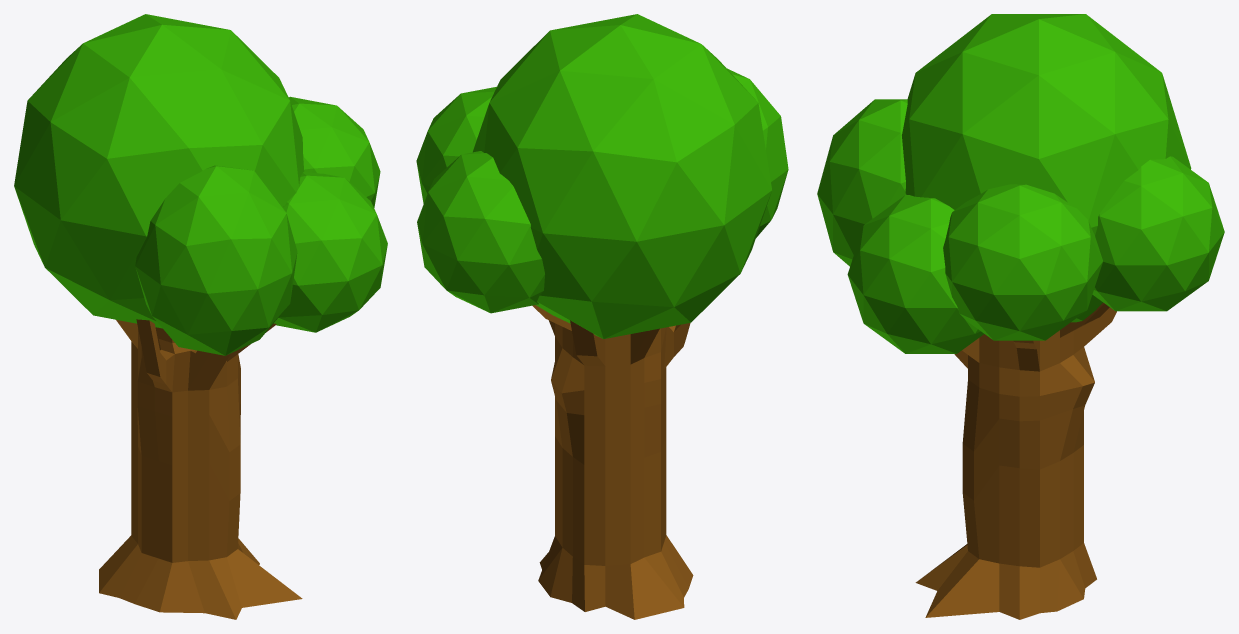
Rendered from boom 3.fbx.
3 views of the same model, side by side, from view 1: azimuth 30°, elevation 25°; view 2: azimuth 150°, elevation 25°; view 3: azimuth 270°, elevation 25° (orthographic). The views are drawn at different scales.
Parts seen in each view (by area): view 1: Icosphere.006, Cube.002, Icosphere.004, Icosphere.003, Icosphere.002; view 2: Icosphere.006, Cube.002, Icosphere.005, Icosphere.002, Icosphere.004; view 3: Icosphere.006, Cube.002, Icosphere.002, Icosphere.005, Icosphere.003, Icosphere.004.
Part boxes in pixels (bbox=[...]): Icosphere.006: bbox=[14, 14, 304, 328]; Cube.002: bbox=[99, 319, 302, 619]; Icosphere.004: bbox=[135, 165, 297, 355]; Icosphere.003: bbox=[274, 171, 387, 332]; Icosphere.002: bbox=[288, 96, 380, 207]; Icosphere.006: bbox=[473, 14, 771, 338]; Cube.002: bbox=[532, 305, 693, 619]; Icosphere.005: bbox=[417, 151, 544, 313]; Icosphere.002: bbox=[416, 86, 496, 203]; Icosphere.004: bbox=[727, 68, 788, 237]; Icosphere.006: bbox=[902, 14, 1191, 322]; Cube.002: bbox=[915, 302, 1116, 619]; Icosphere.002: bbox=[943, 184, 1102, 340]; Icosphere.005: bbox=[1092, 156, 1224, 311]; Icosphere.003: bbox=[847, 195, 983, 353]; Icosphere.004: bbox=[817, 99, 907, 266].
Size of the model in its own units: 7962 by 13130 by 8703.
